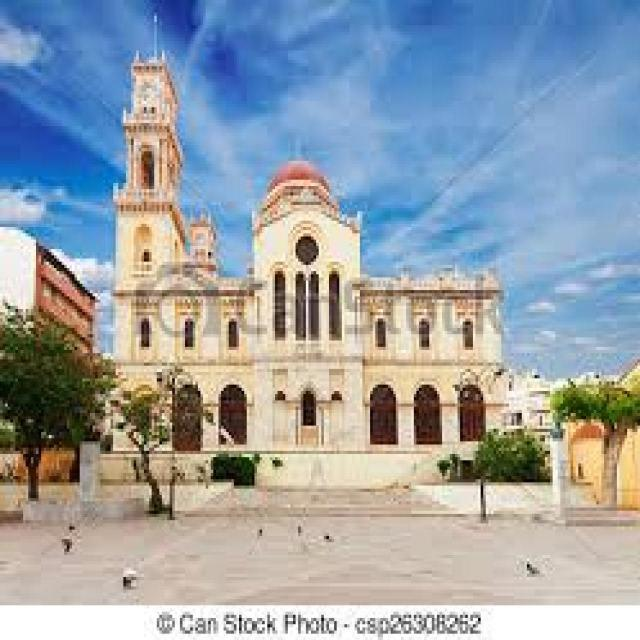Agios Minas: (101, 27, 512, 481)
